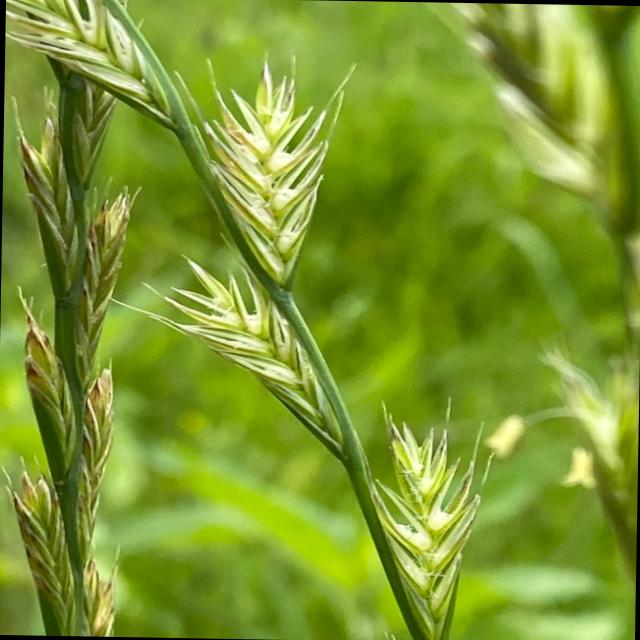Lolium: (24, 0, 499, 640), (3, 6, 142, 636)
